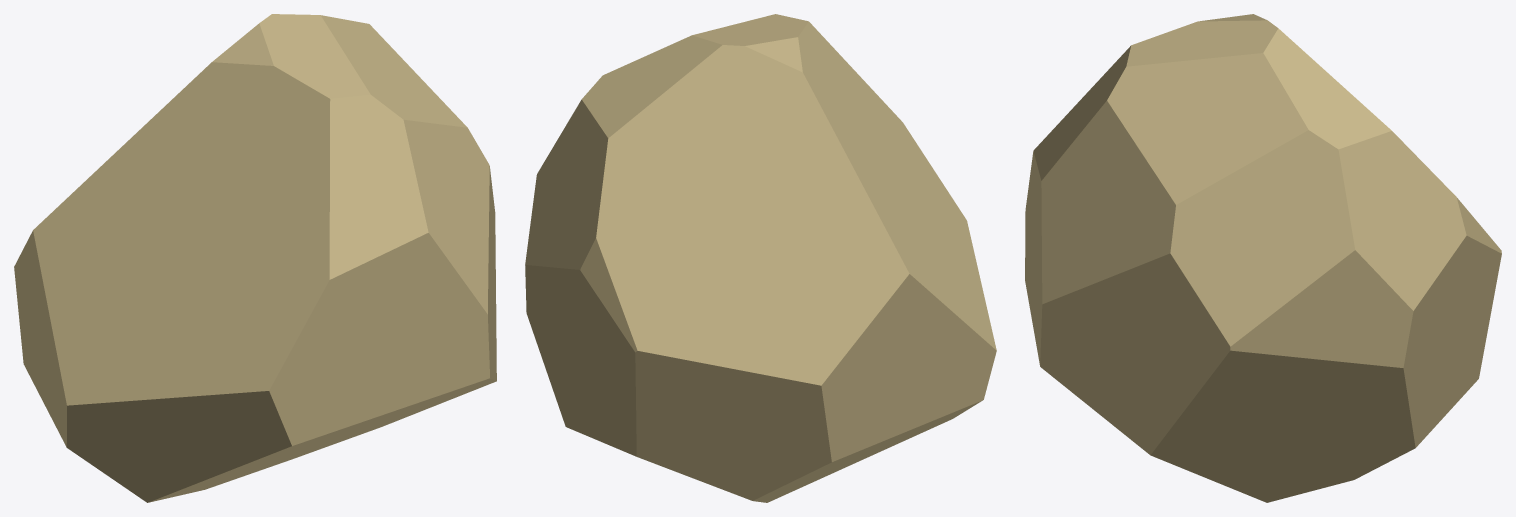
Rendered from hiekkakivi3.fbx.
3 renders of one model, left to right at view 1: azimuth 30°, elevation 25°; view 2: azimuth 150°, elevation 25°; view 3: azimuth 270°, elevation 25°, orthographic. The views are drawn at different scales.
Visible parts, largest first — view 1: Cube; view 2: Cube; view 3: Cube.
Part boxes in pixels (box(x1,y1,x2,y2)): Cube: box(14, 14, 496, 502); Cube: box(525, 14, 996, 502); Cube: box(1025, 14, 1501, 502).
Bounding box in the file's own units: 315 × 315 × 297.
